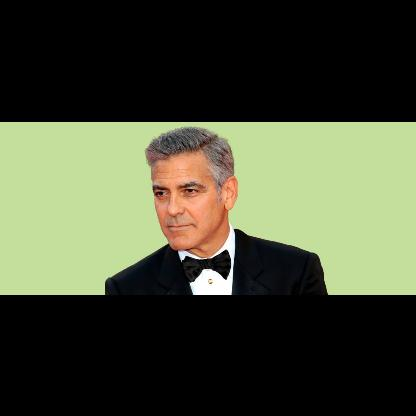Male: (152, 148, 238, 247)
